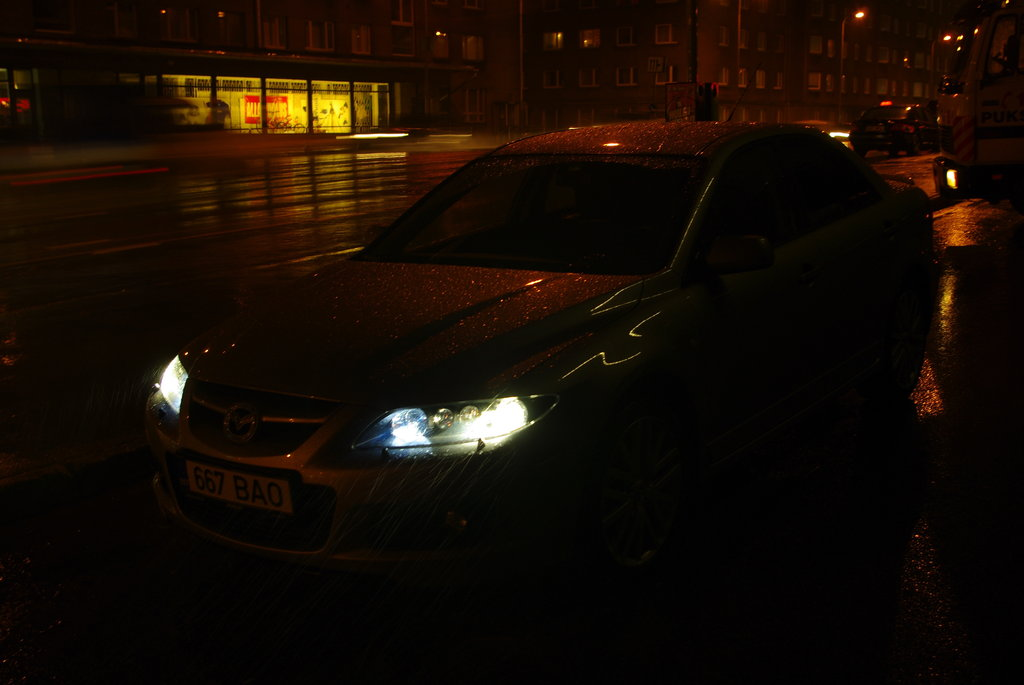car: (123, 113, 946, 599)
